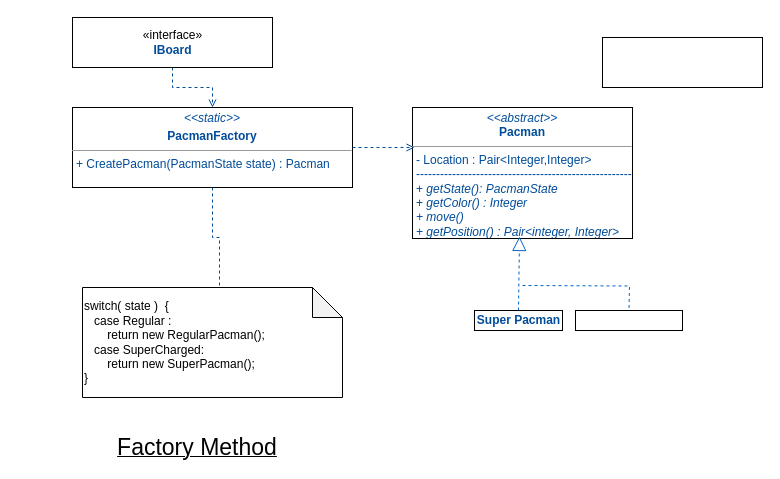
This 780x479 diagram has some shape labels left out. The shapes that lost their labels are listed below. From the top down, each one's centre as x and y in pixels, then its label:
(x=682, y=62): «enum» PacmanState Regular ,SuperCharged
(x=628, y=320): Regular Pacman
